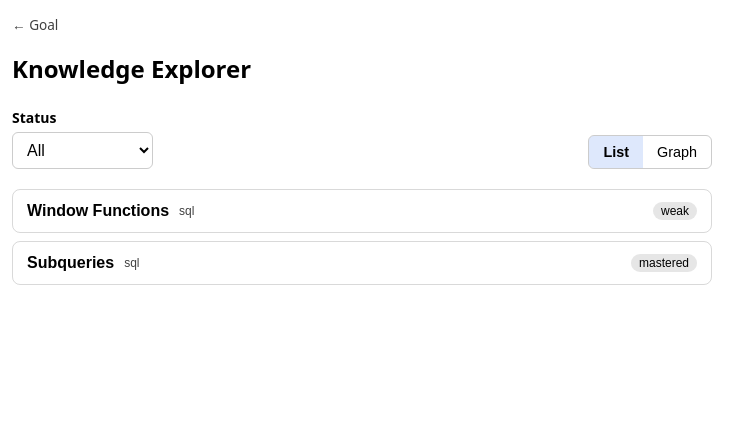
Test: KnowledgeExplorer › expands a concept to show stats and relations
What coordinates should you click on to do the following:
click the button "Window Functions sql weak"
I would click on:
 (98, 211)
Its box is [13, 190, 711, 232].
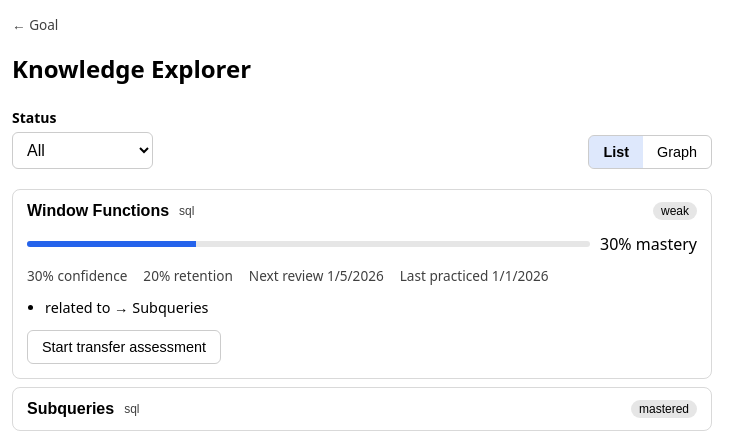
Expected: the text "30% confidence" is shown, [27, 266, 127, 287]
Expected: the list item "related to → Subqueries" is shown, [45, 298, 208, 317]
